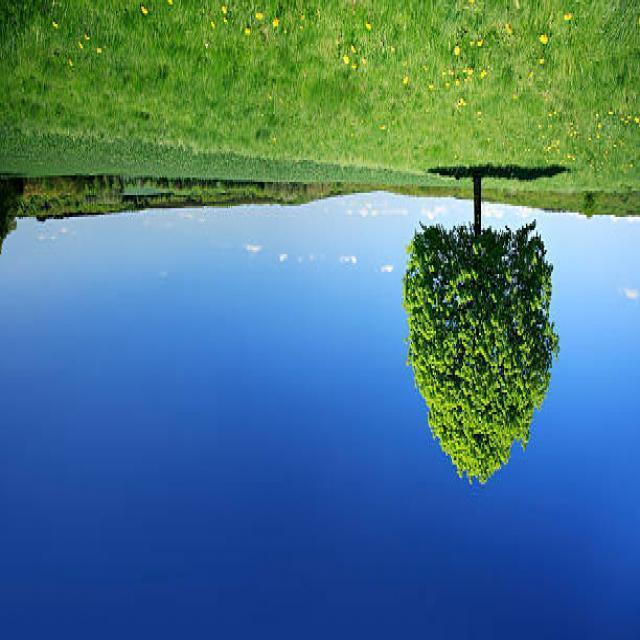tree: (405, 173, 563, 514)
